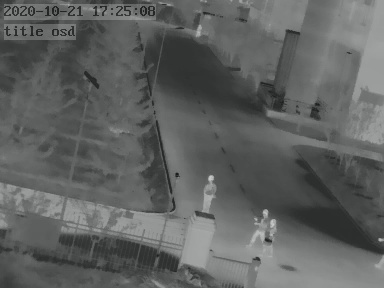person: (201, 172, 217, 212), (252, 208, 268, 245), (267, 213, 279, 252), (195, 23, 202, 38)
